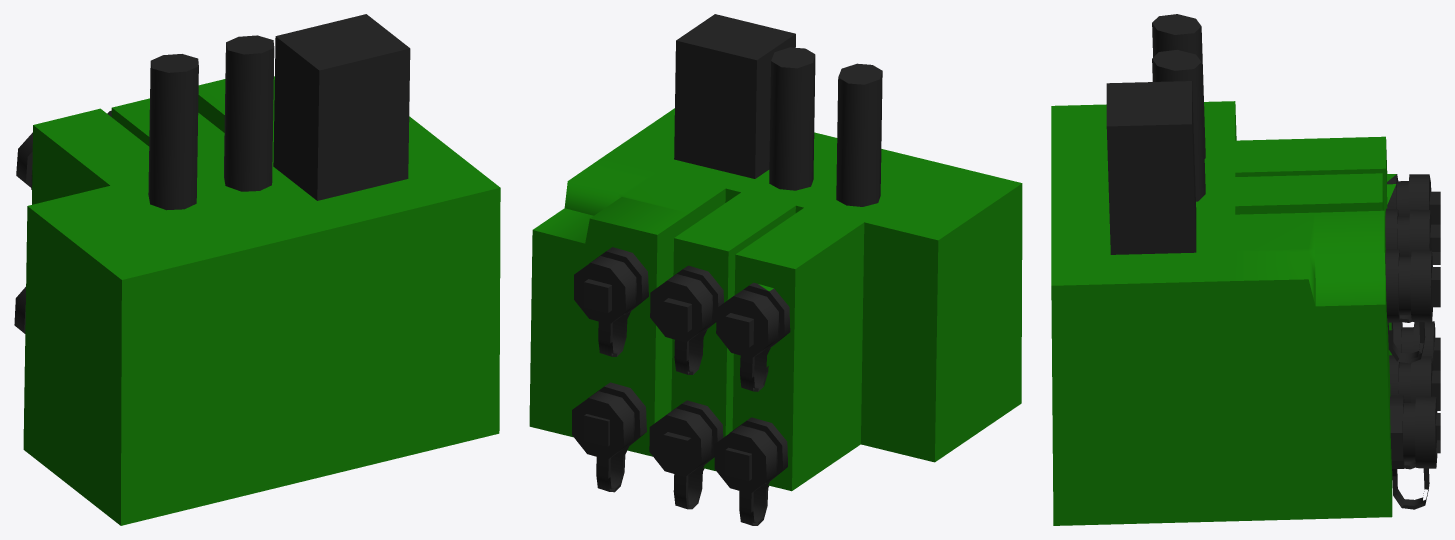
The model's file is bombaoleo.gltf.
3 views of the same model, side by side, from view 1: azimuth 30°, elevation 25°; view 2: azimuth 150°, elevation 25°; view 3: azimuth 270°, elevation 25° (orthographic). The views are drawn at different scales.
Visible parts, largest first — view 1: 5060e.043; view 2: 5060e.043; view 3: 5060e.043.
Part boxes in pixels (<box>): 5060e.043: <box>14,14,500,525</box>; 5060e.043: <box>529,14,1022,525</box>; 5060e.043: <box>1051,14,1440,525</box>.
Bounding box in the file's own units: 23.61 × 24.94 × 21.59.
